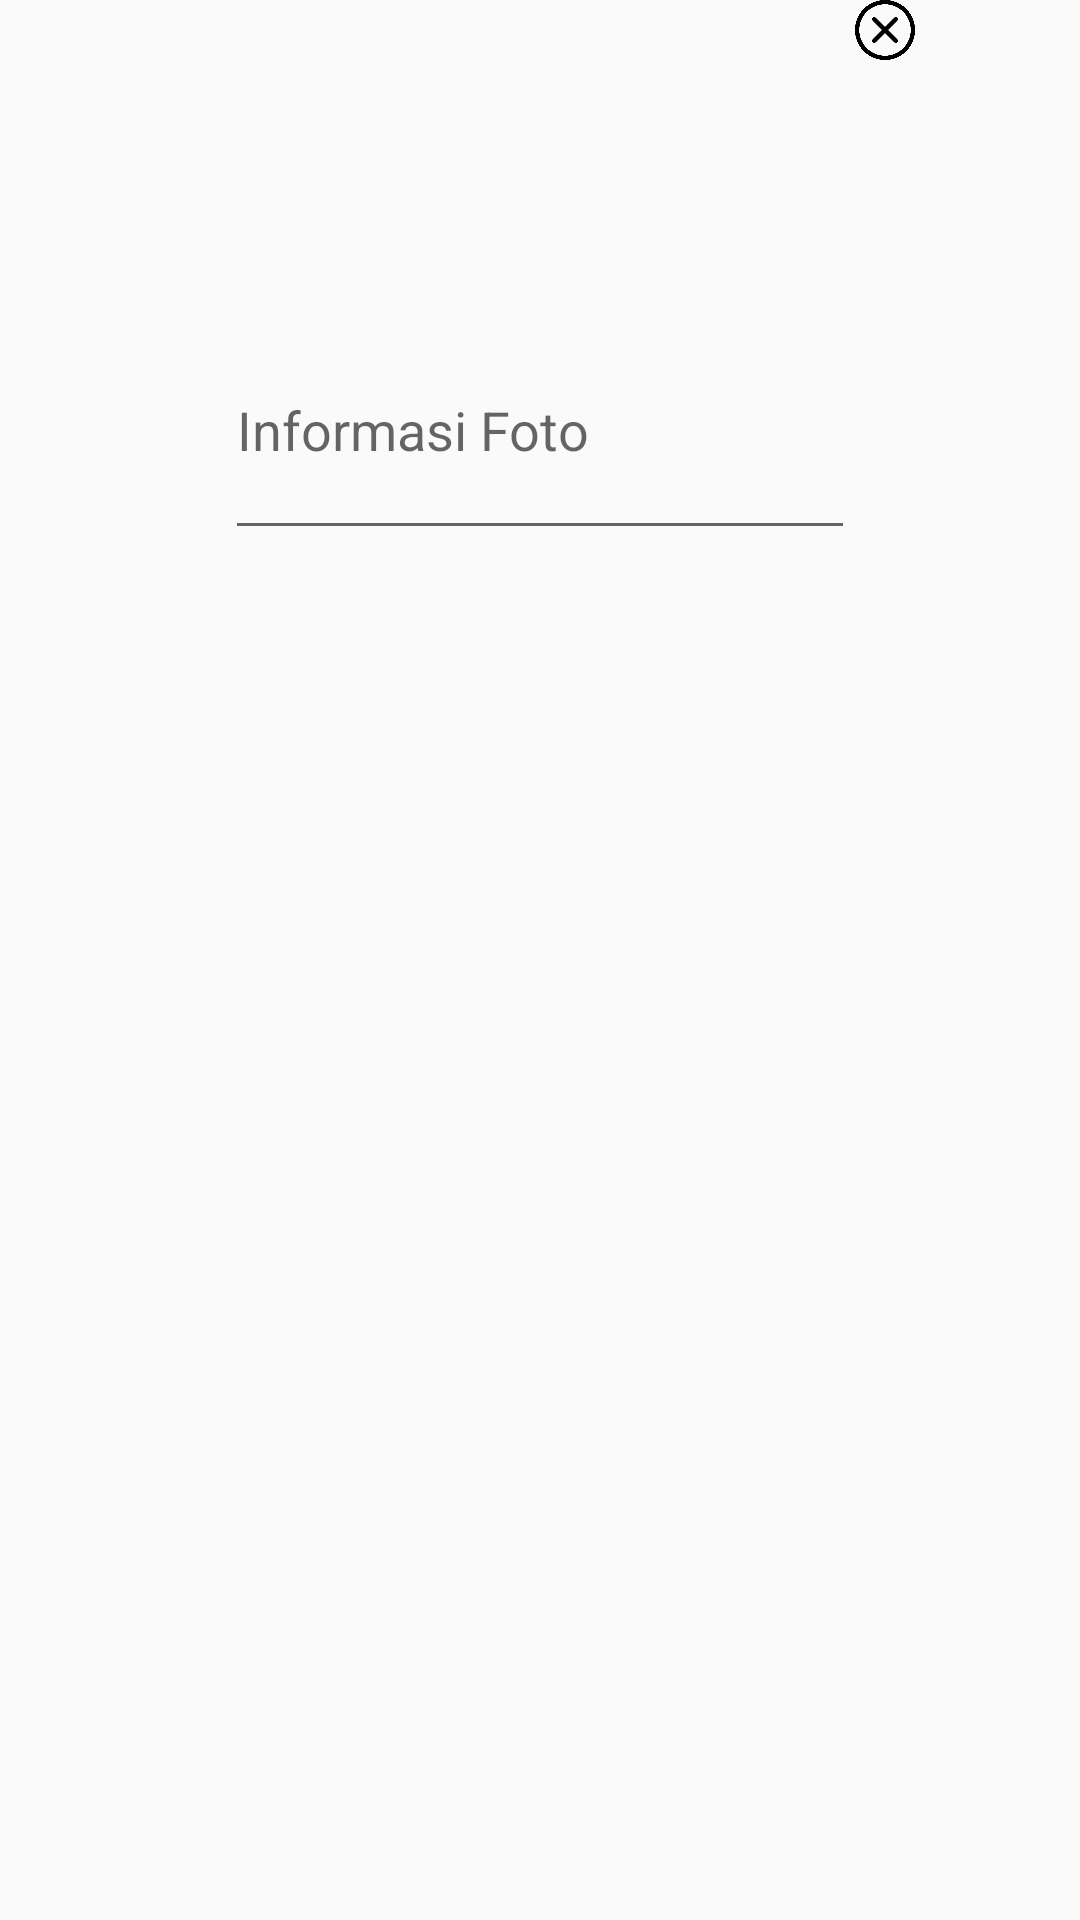

Screen size 1080 × 1920. Icon name, then its box in pixels as box=[x1, y1, x2, y2]:
deletefoto: box=[855, 0, 915, 60]
